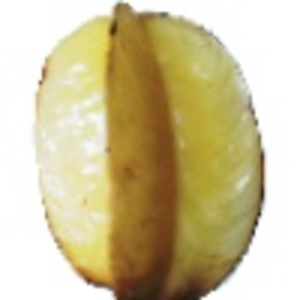carambola: (33, 1, 268, 300)
